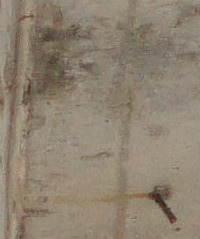Exposed reinforcement: (153, 193, 178, 225)
